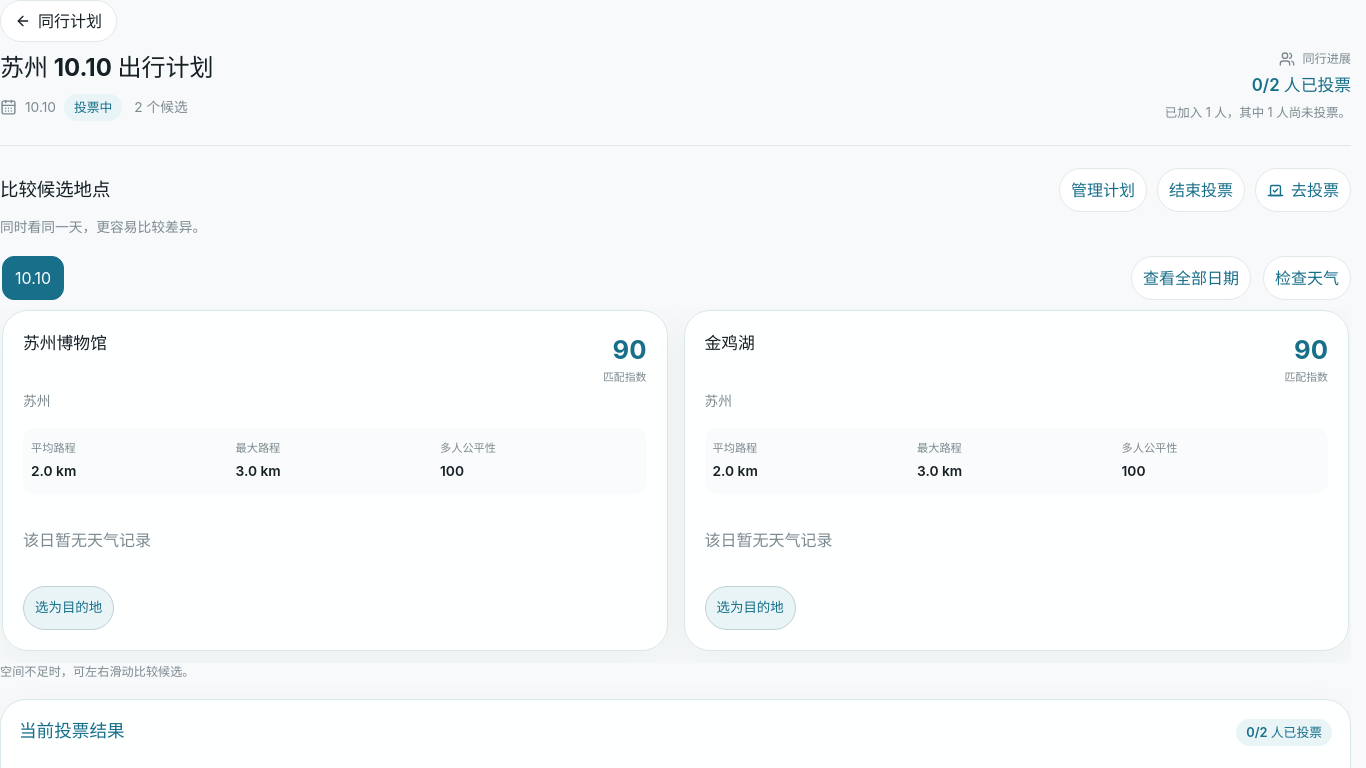
owner closes voting only after confirmation and can still decide or reopen
The width and height of the screenshot is (1366, 768).
Click the button "结束投票" at (1201, 190), box [1157,168,1245,212]
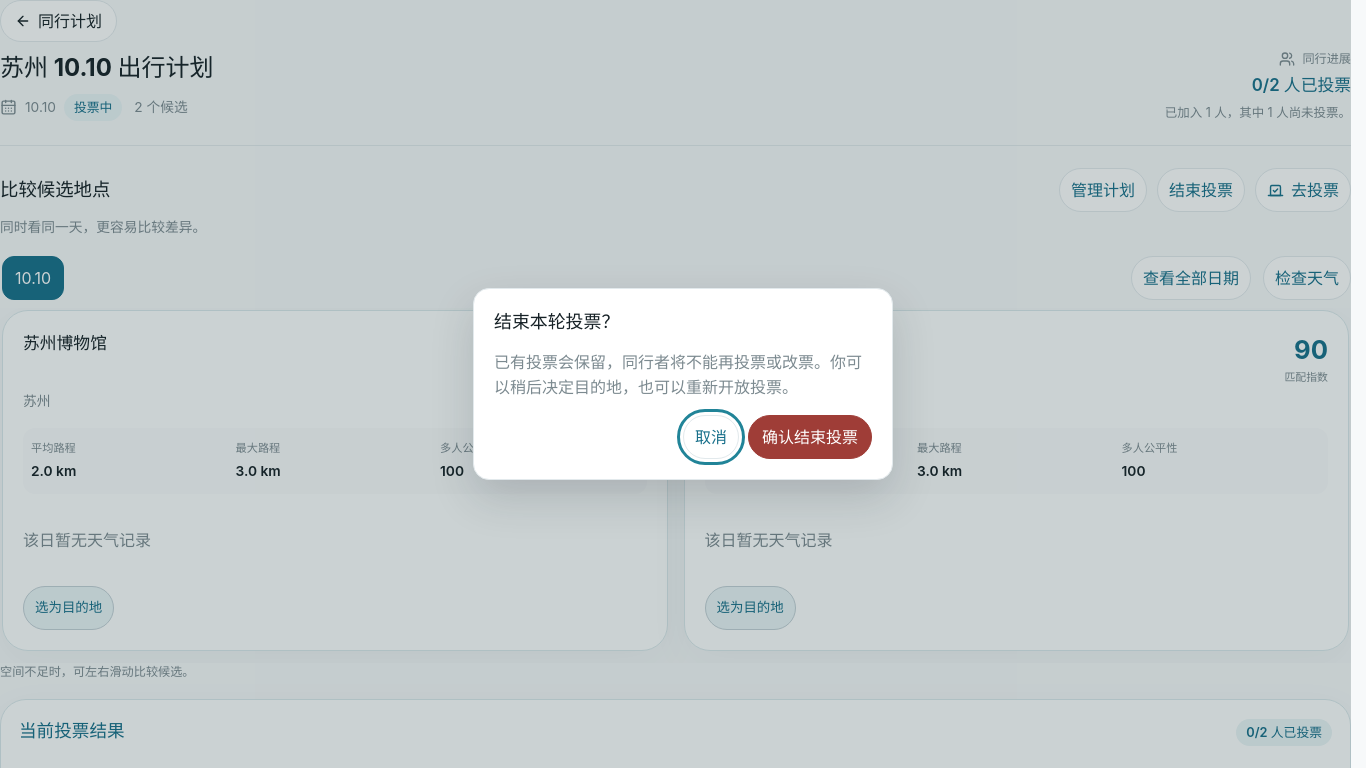
Check: the text "已有投票会保留，同行者将不能再投票或改票。你可以稍后决定目的地，也可以重新开放投票。" is shown, box [494,350,872,401]
Click the button "确认结束投票" at (810, 437), box [748,415,872,459]
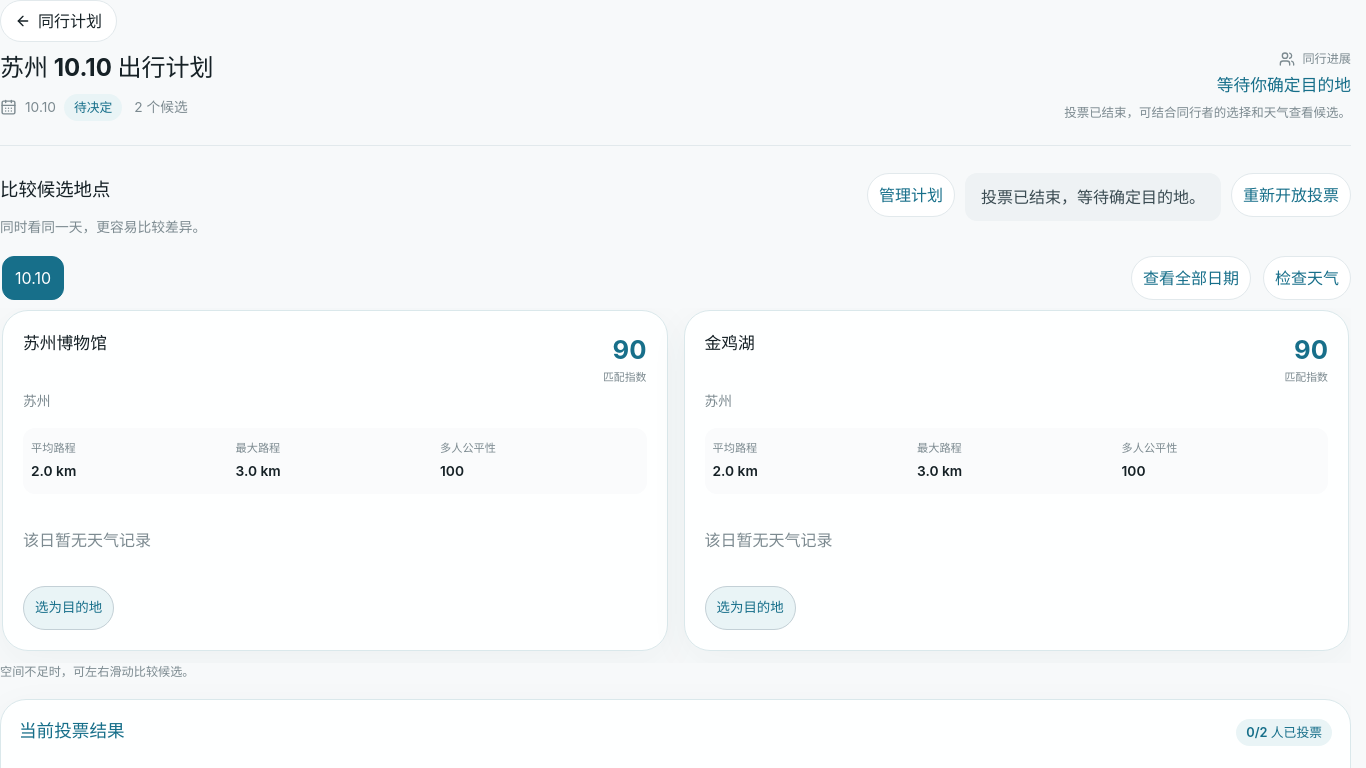
Check: the button with aria-label "确定苏州博物馆" is shown, box [23,586,114,630]
Check: the button "重新开放投票" is shown, box [1231,173,1351,217]
Check: the text "待决定" is shown, box [64,94,122,121]
